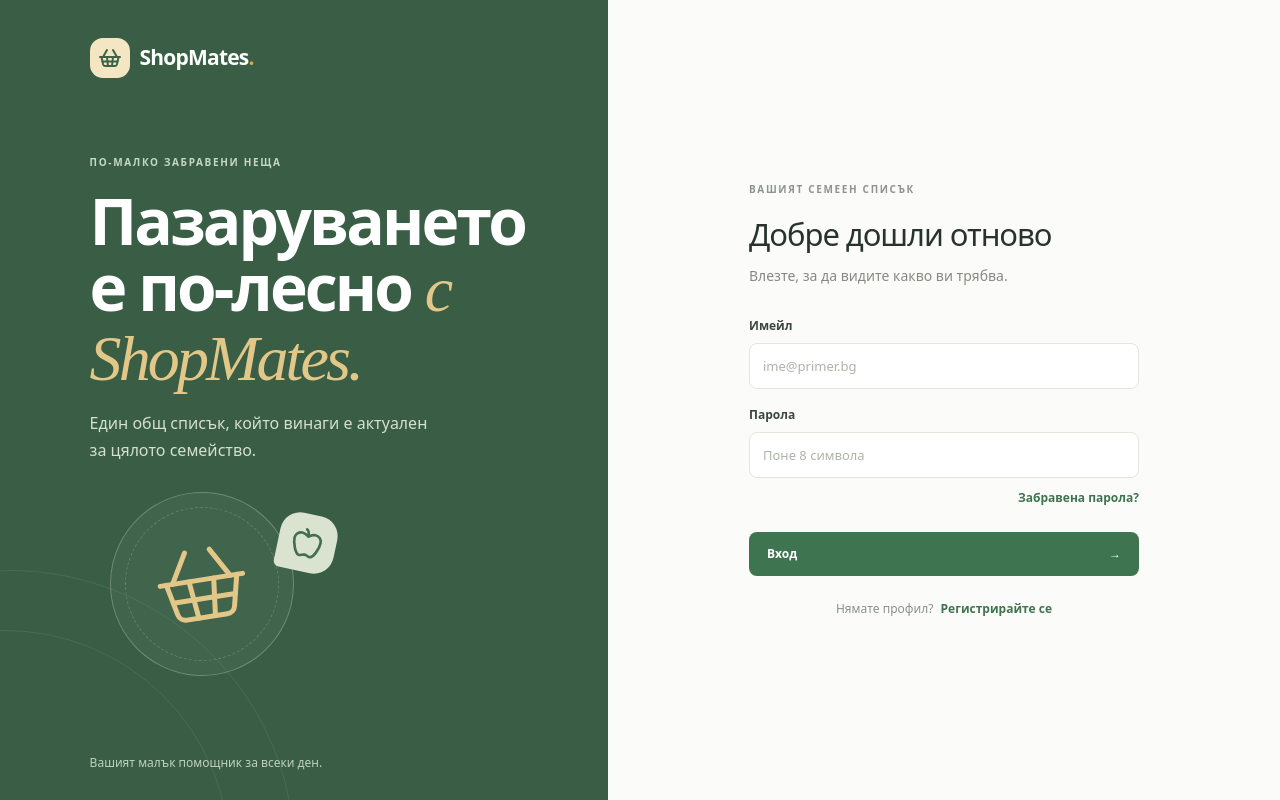
Test: authentication screen › registers a user with a display name
Click the button "Регистрирайте се".
click(996, 609)  # box [940,600,1052,618]
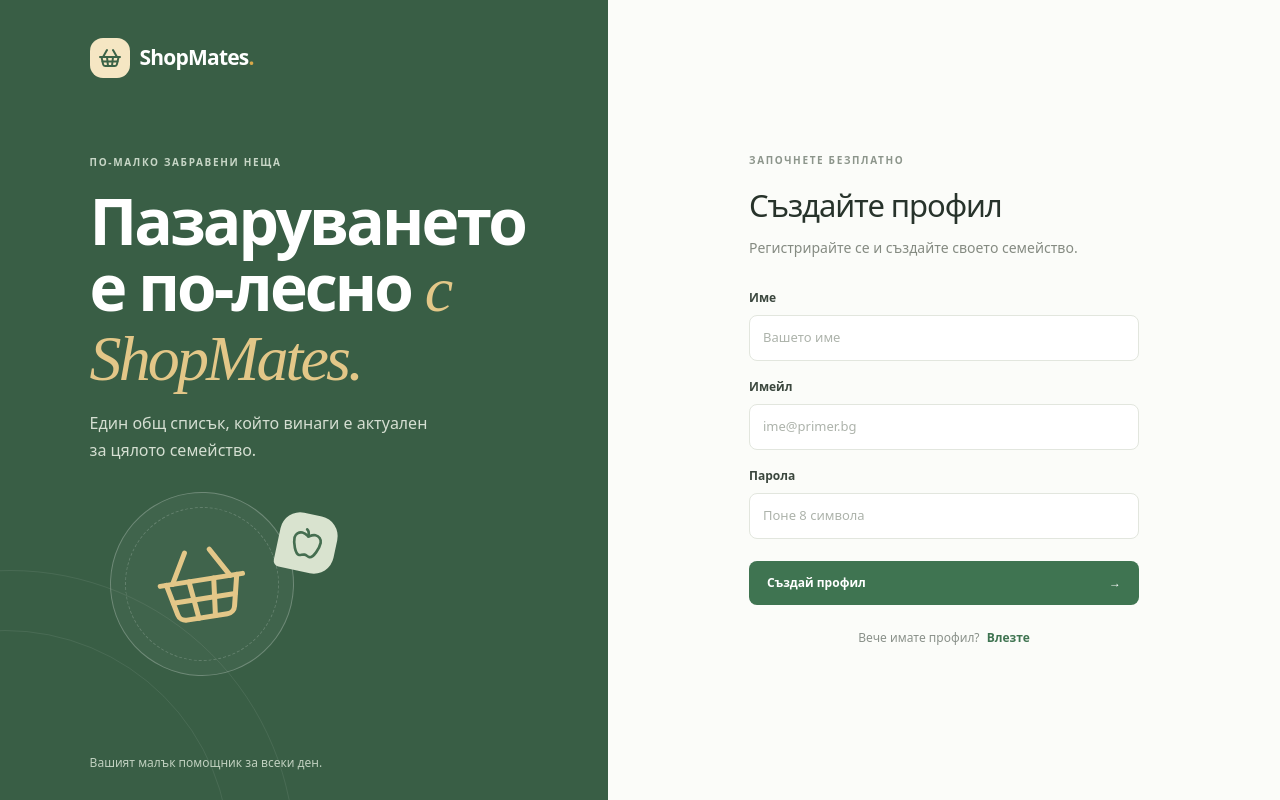
Type "Мария" into the field labelled "Име".
click(944, 338); type("Мария")  # box [749,315,1139,361]
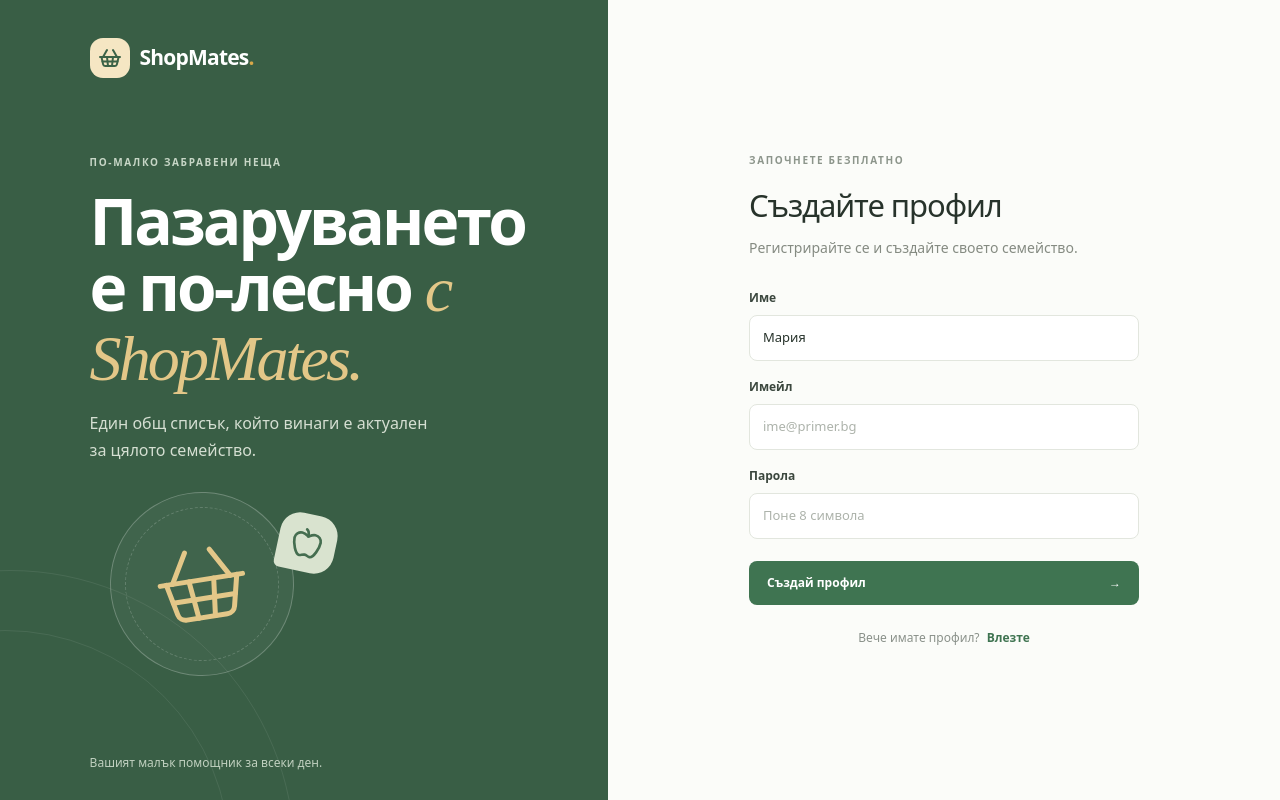
Type "maria@example.test" into the field labelled "Имейл".
click(944, 427); type("maria@example.test")  # box [749,404,1139,450]
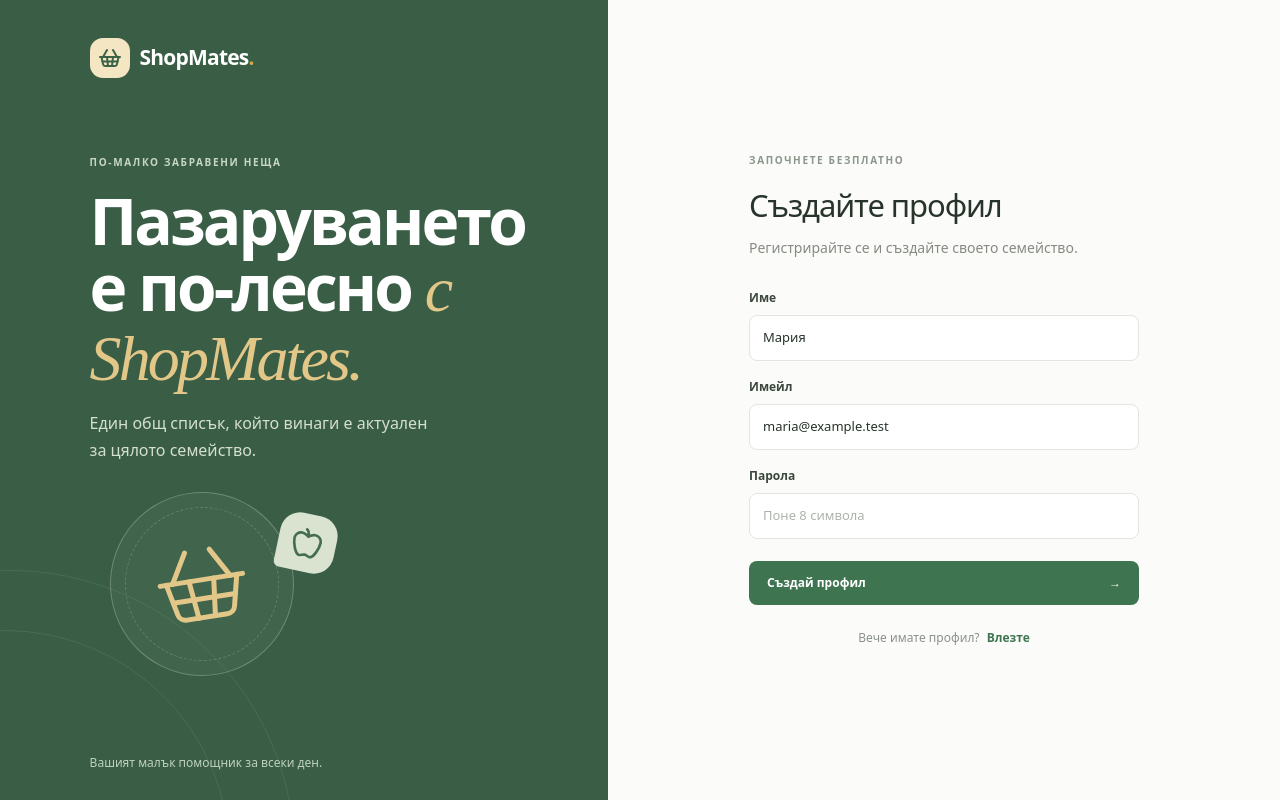
Type "valid-password" into the password field labelled "Парола".
click(944, 516); type("valid-password")  # box [749,493,1139,539]
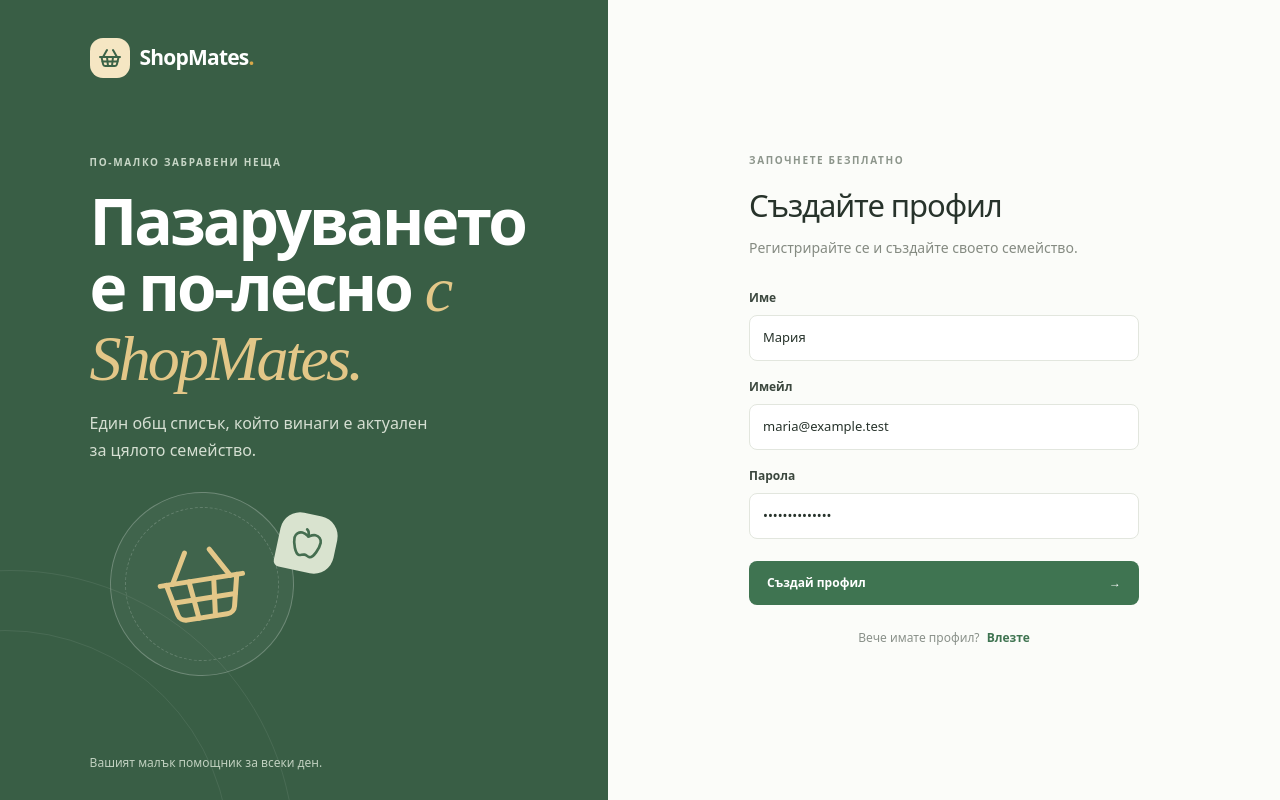
Click the button "Създай профил →".
click(816, 582)  # box [749,561,1139,605]
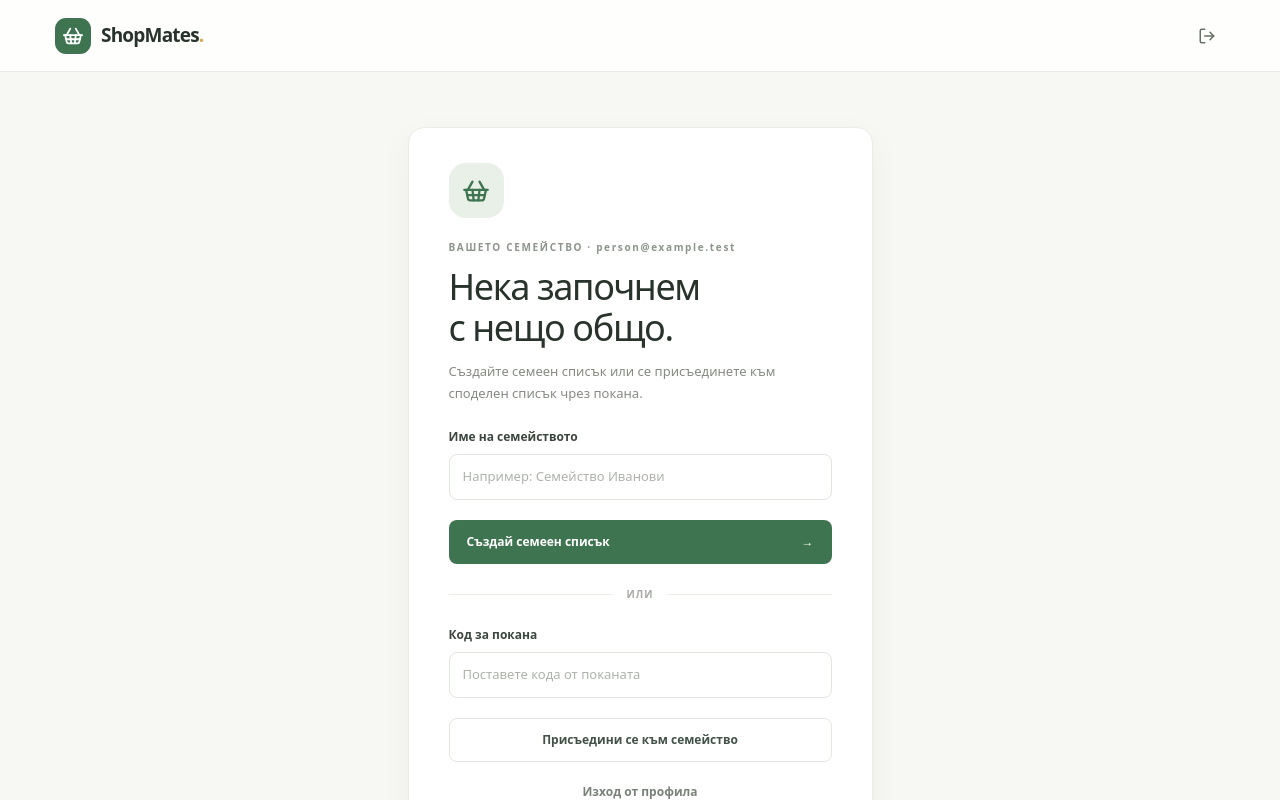
Result: the button "Създай семеен списък →" is shown at [448,520,832,564]
